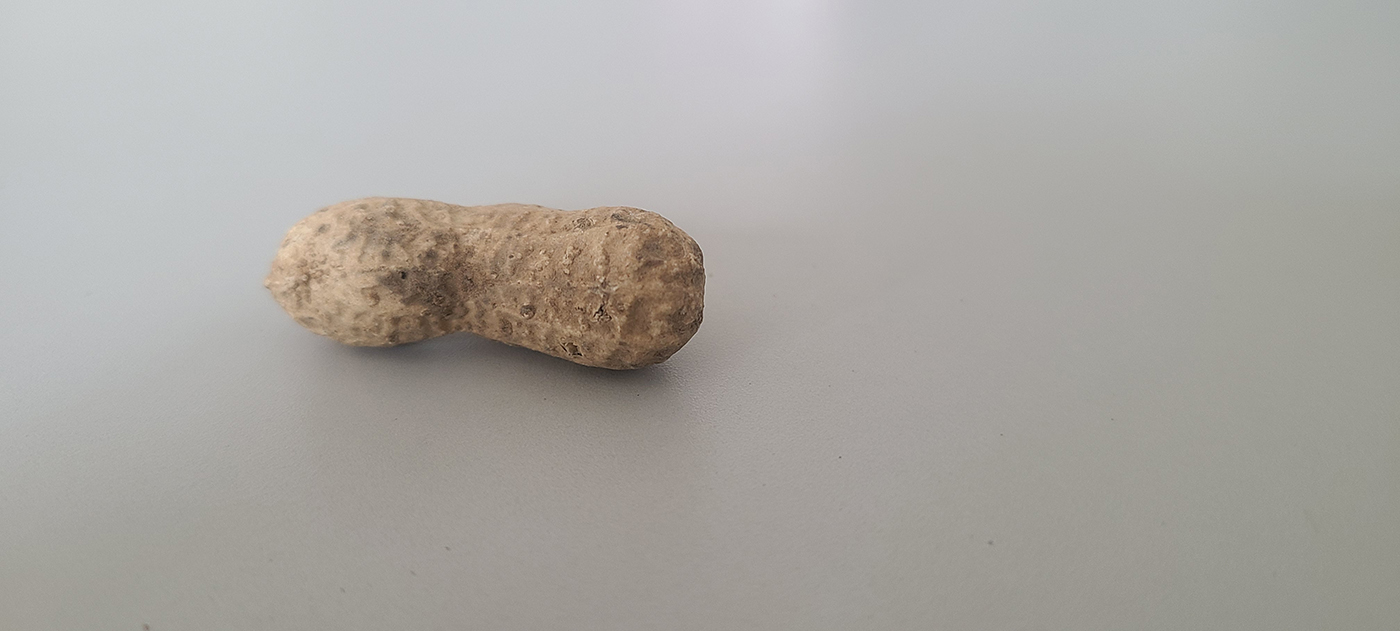h: (261, 192, 709, 369)
